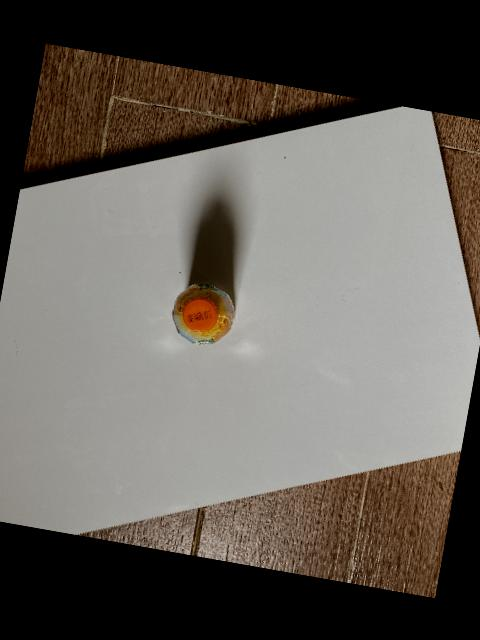teppy_orange_juice: (172, 282, 235, 344)
